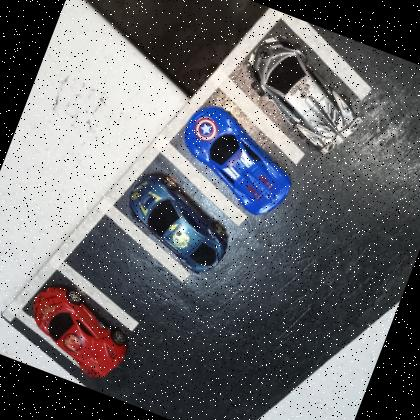Car: (224, 26, 384, 166), (162, 96, 312, 227), (110, 166, 244, 284), (12, 278, 140, 390)
